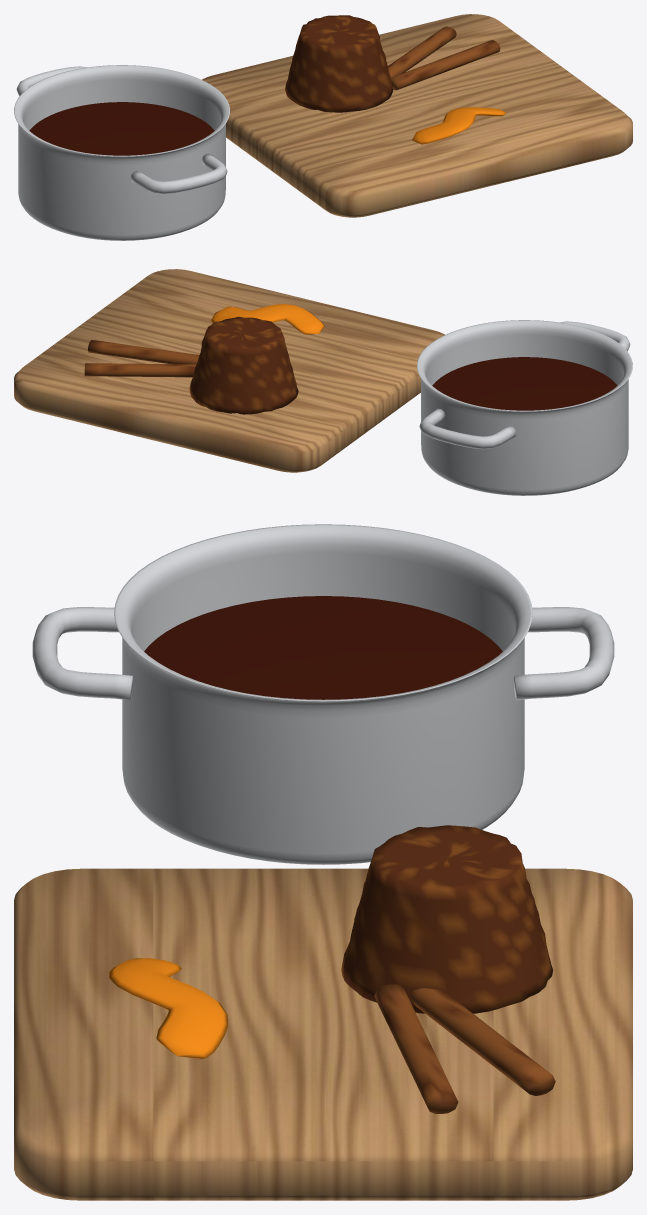
File: paso-4.glb
The picture shows the model from 3 angles, top to bottom: view 1: azimuth 30°, elevation 25°; view 2: azimuth 150°, elevation 25°; view 3: azimuth 270°, elevation 25°; orthographic projection. The views are drawn at different scales.
Visible parts, largest first — view 1: paso-4-4, paso-4-0, paso-4-5, paso-4-3, paso-4-7, paso-4-2, paso-4-8, paso-4-6, paso-4-1; view 2: paso-4-4, paso-4-0, paso-4-5, paso-4-3, paso-4-8, paso-4-1, paso-4-6, paso-4-7, paso-4-2; view 3: paso-4-4, paso-4-0, paso-4-5, paso-4-3, paso-4-8, paso-4-1, paso-4-2, paso-4-6, paso-4-7.
Boxes of the visible parts, x1,y1,x2,y2 form: paso-4-4: (202,14,632,217); paso-4-0: (14,65,229,240); paso-4-5: (285,15,392,112); paso-4-3: (29,102,214,155); paso-4-7: (390,40,500,90); paso-4-2: (130,153,227,194); paso-4-8: (412,107,506,144); paso-4-6: (388,26,456,77); paso-4-1: (16,66,86,96); paso-4-4: (14,269,444,472); paso-4-0: (417,320,632,495); paso-4-5: (189,316,298,414); paso-4-3: (432,357,617,410); paso-4-8: (211,304,324,334); paso-4-1: (419,408,516,449); paso-4-6: (84,363,196,377); paso-4-7: (88,340,199,364); paso-4-2: (560,321,630,351); paso-4-4: (14,868,632,1200); paso-4-0: (114,524,532,864); paso-4-5: (341,825,552,1013); paso-4-3: (144,596,502,699); paso-4-8: (108,958,227,1058); paso-4-1: (514,607,614,700); paso-4-2: (32,607,132,700); paso-4-6: (410,988,555,1095); paso-4-7: (374,984,458,1113).
Bounding box in the file's own units: 0.3877 × 0.0615 × 0.2.
6 materials, 1 textured.
